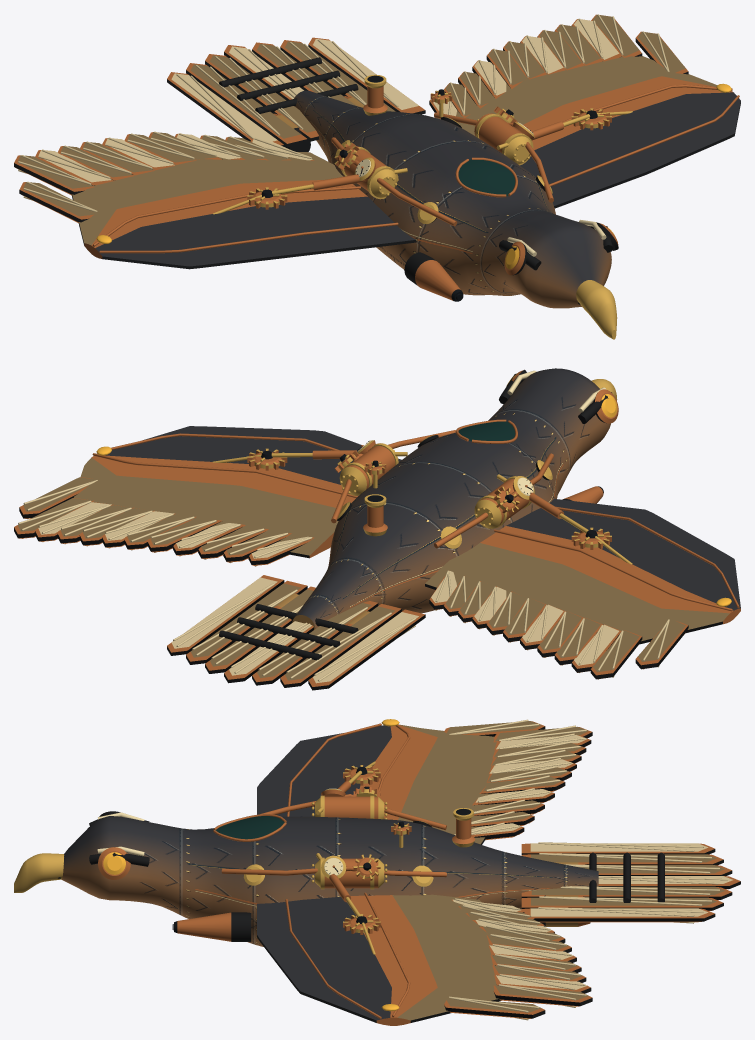
The picture shows the model from 3 angles, top to bottom: view 1: azimuth 30°, elevation 25°; view 2: azimuth 150°, elevation 25°; view 3: azimuth 270°, elevation 25°; orthographic projection. The views are drawn at different scales.
Visible parts, largest first — view 1: goshawk_hull; view 2: goshawk_hull; view 3: goshawk_hull.
Boxes of the visible parts, left/top/right/bottom form: goshawk_hull: left=14, top=14, right=740, bottom=339; goshawk_hull: left=14, top=368, right=740, bottom=690; goshawk_hull: left=14, top=719, right=740, bottom=1025.
Bounding box in the file's own units: 63.21 × 13.24 × 66.
Materials: 1 (1 with a texture image).
